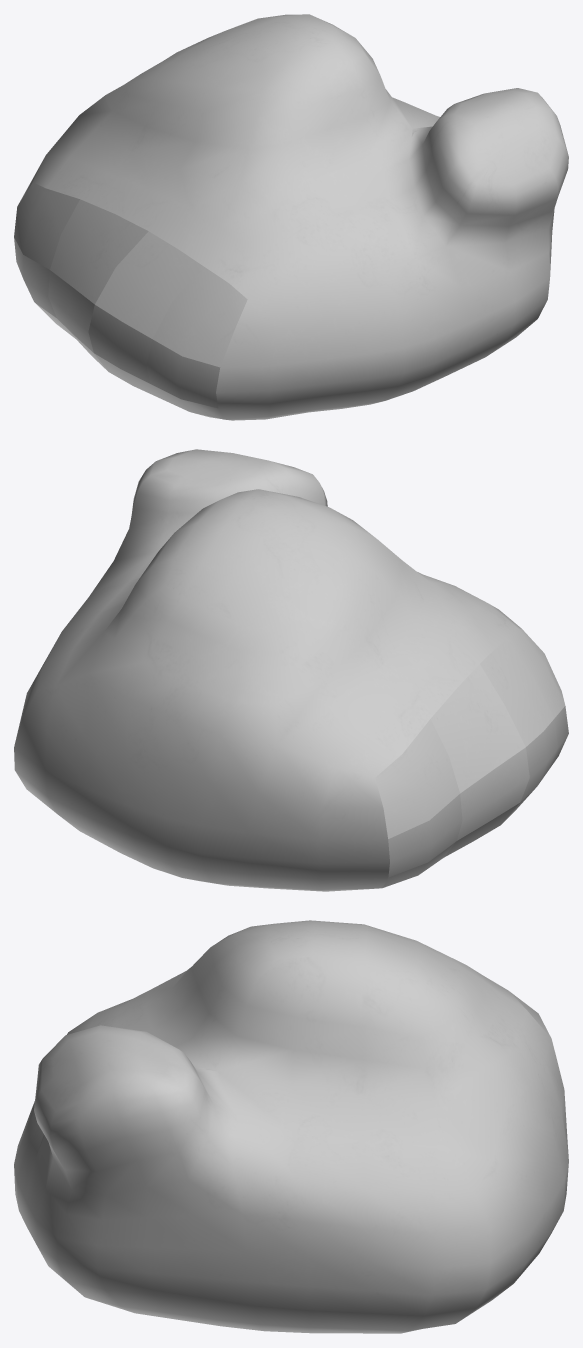
The model's file is Rock.fbx.
3 views of the same model, one above another, from view 1: azimuth 30°, elevation 25°; view 2: azimuth 150°, elevation 25°; view 3: azimuth 270°, elevation 25° (orthographic). The views are drawn at different scales.
Visible parts, largest first — view 1: Cube.001; view 2: Cube.001; view 3: Cube.001.
Boxes of the visible parts, x1,y1,x2,y2 form: Cube.001: (14, 14, 568, 420); Cube.001: (14, 449, 568, 891); Cube.001: (14, 920, 568, 1333).
Size of the model in its own units: 546 by 380 by 553.
